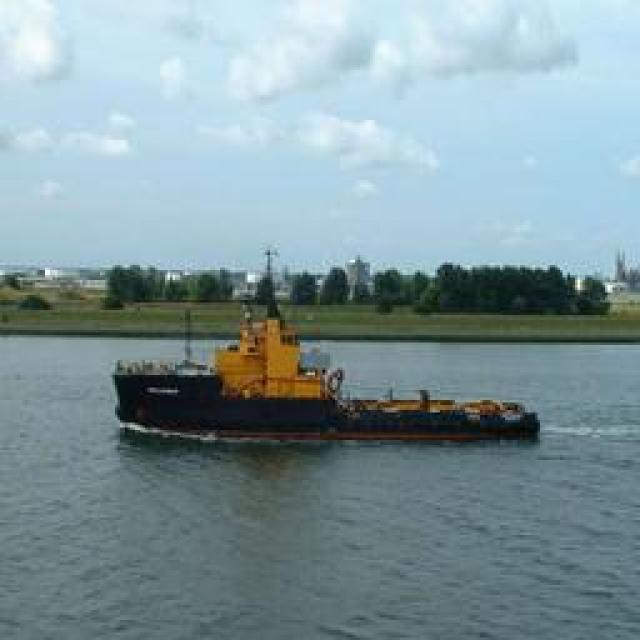ship2: (110, 241, 539, 446)
